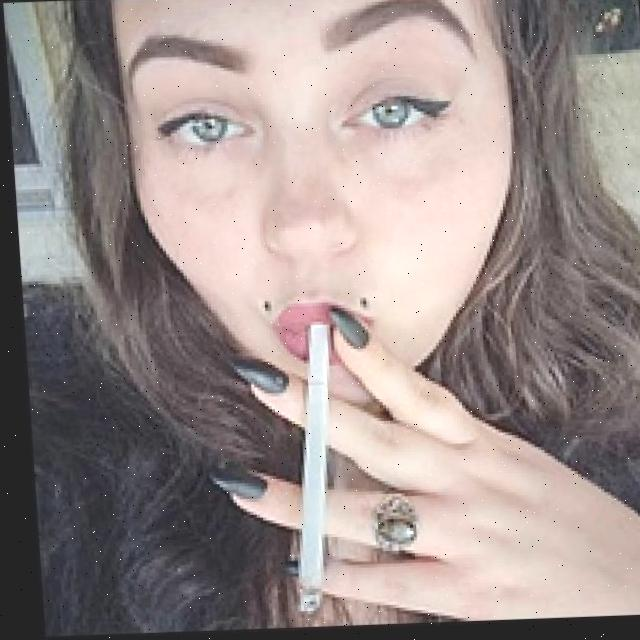cigarette: (275, 325, 341, 617)
